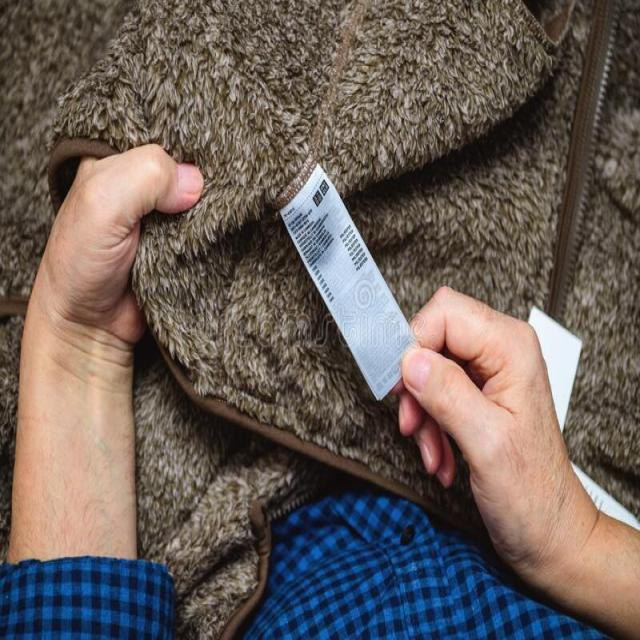clothes: (197, 38, 400, 444)
